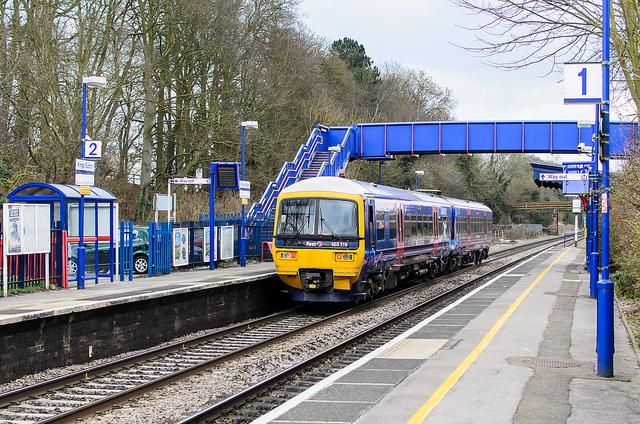Train: (253, 173, 508, 311)
